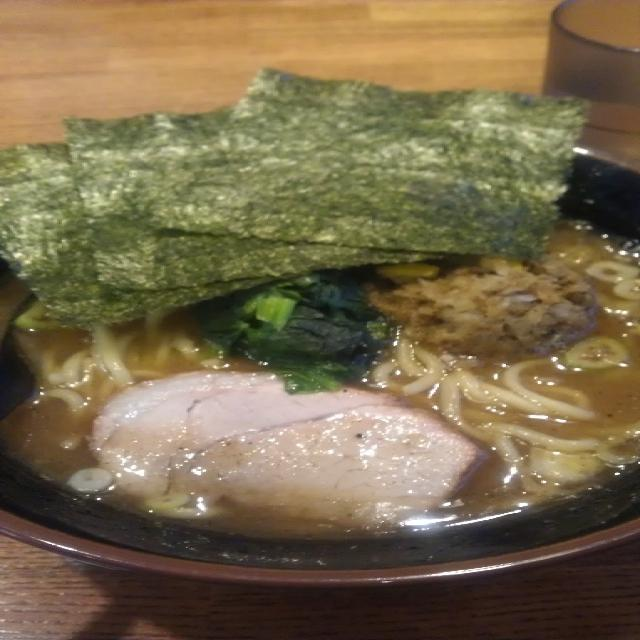面条主食: (0, 62, 637, 640)
